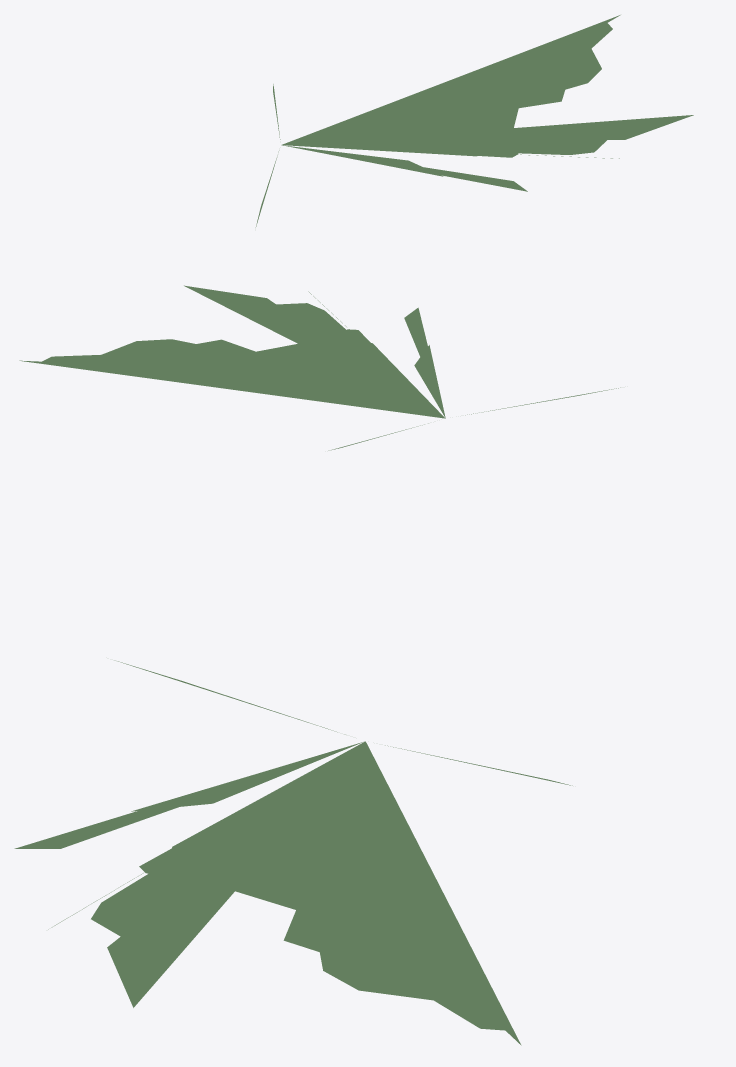
File: c_1648_17832_forest.glb
3 views of the same model, one above another, from view 1: azimuth 30°, elevation 25°; view 2: azimuth 150°, elevation 25°; view 3: azimuth 270°, elevation 25° (orthographic). The views are drawn at different scales.
Visible parts, largest first — view 1: geometry_0; view 2: geometry_0; view 3: geometry_0.
Boxes of the visible parts, x1,y1,x2,y2 form: geometry_0: [255, 15, 693, 227]; geometry_0: [19, 285, 620, 450]; geometry_0: [14, 660, 572, 1045].
Size of the model in its own units: 723 by 0 by 434.
